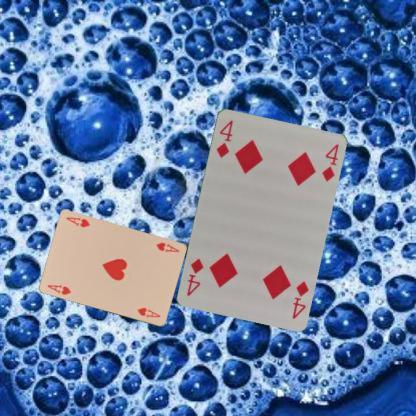4d: (213, 117, 234, 159), (290, 277, 310, 320)
Ah: (154, 239, 180, 254), (45, 282, 72, 296)
